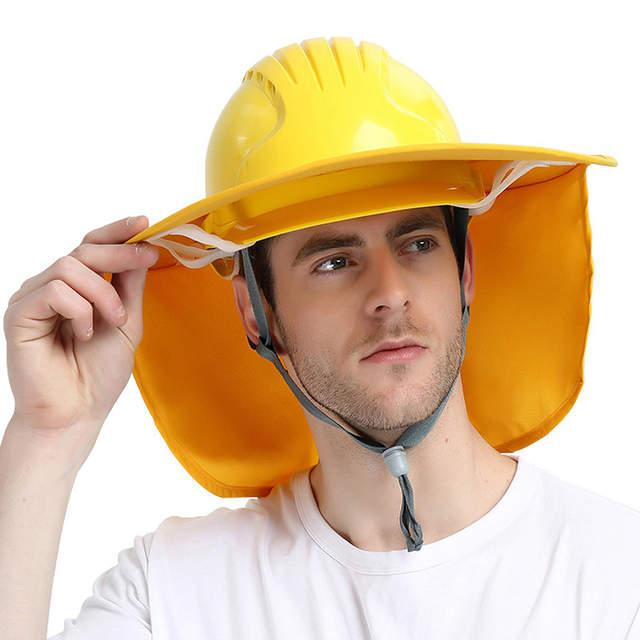helmet: (189, 36, 478, 242)
